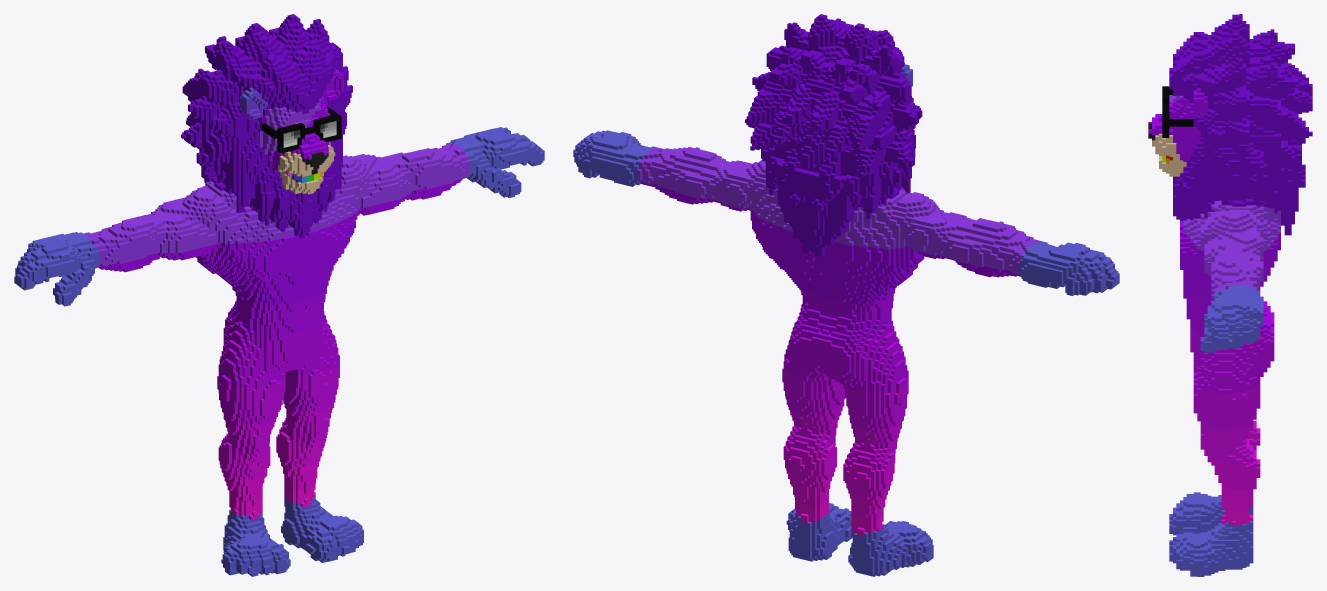
The model's file is 173-Die8Sdo7.glb.
3 renders of one model, left to right at view 1: azimuth 30°, elevation 25°; view 2: azimuth 150°, elevation 25°; view 3: azimuth 270°, elevation 25°, orthographic. The views are drawn at different scales.
Visible parts, largest first — view 1: rainbow_grill; view 2: rainbow_grill; view 3: rainbow_grill.
Boxes of the visible parts, x1=… form: rainbow_grill: x1=14, y1=14, x2=544, y2=576; rainbow_grill: x1=573, y1=14, x2=1119, y2=576; rainbow_grill: x1=1148, y1=14, x2=1312, y2=576.
Size of the model in its own units: 17.2 by 16.5 by 4.7.
Materials: 4 (4 with a texture image).
